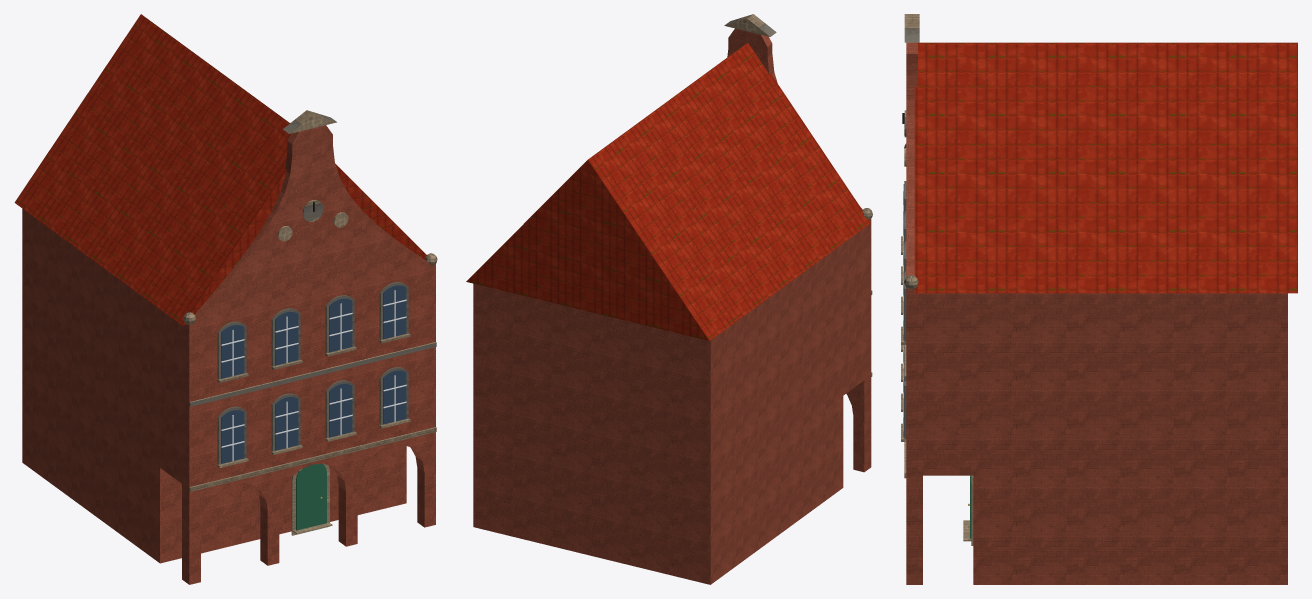
File: hanseatica_w10_1.gltf
3 renders of one model, left to right at view 1: azimuth 30°, elevation 25°; view 2: azimuth 150°, elevation 25°; view 3: azimuth 270°, elevation 25°, orthographic. The views are drawn at different scales.
Visible parts, largest first — view 1: hanseatica_w10_1; view 2: hanseatica_w10_1; view 3: hanseatica_w10_1.
Boxes of the visible parts, x1,y1,x2,y2 form: hanseatica_w10_1: (14, 14, 437, 584); hanseatica_w10_1: (466, 14, 872, 584); hanseatica_w10_1: (901, 14, 1297, 584).
Size of what is drawn, in the model's own units: 9.96 by 16.7 by 11.86.
8 materials, 4 textured.
